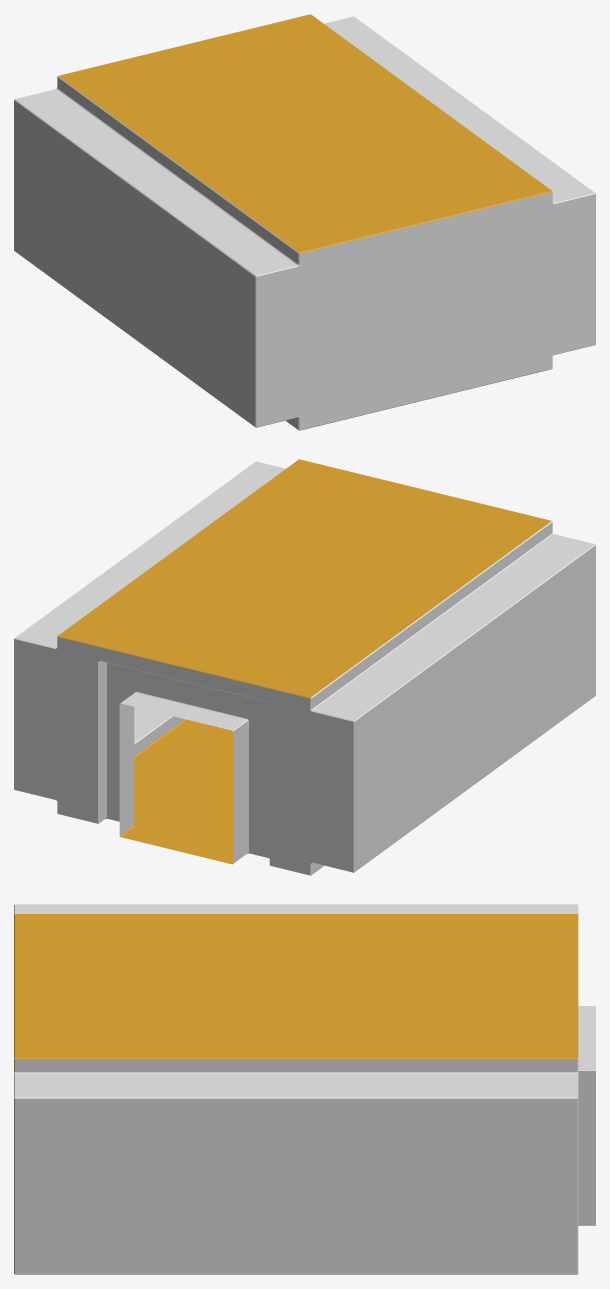
File: Tomb.fbx
3 views of the same model, one above another, from view 1: azimuth 30°, elevation 25°; view 2: azimuth 150°, elevation 25°; view 3: azimuth 270°, elevation 25° (orthographic). The views are drawn at different scales.
Parts seen in each view (by area): view 1: Tomb; view 2: Tomb; view 3: Tomb.
Boxes of the visible parts, x1,y1,x2,y2 form: Tomb: (14, 14, 595, 430); Tomb: (14, 459, 595, 875); Tomb: (14, 904, 595, 1274).
Size of the model in its own units: 520 by 260 by 660.
